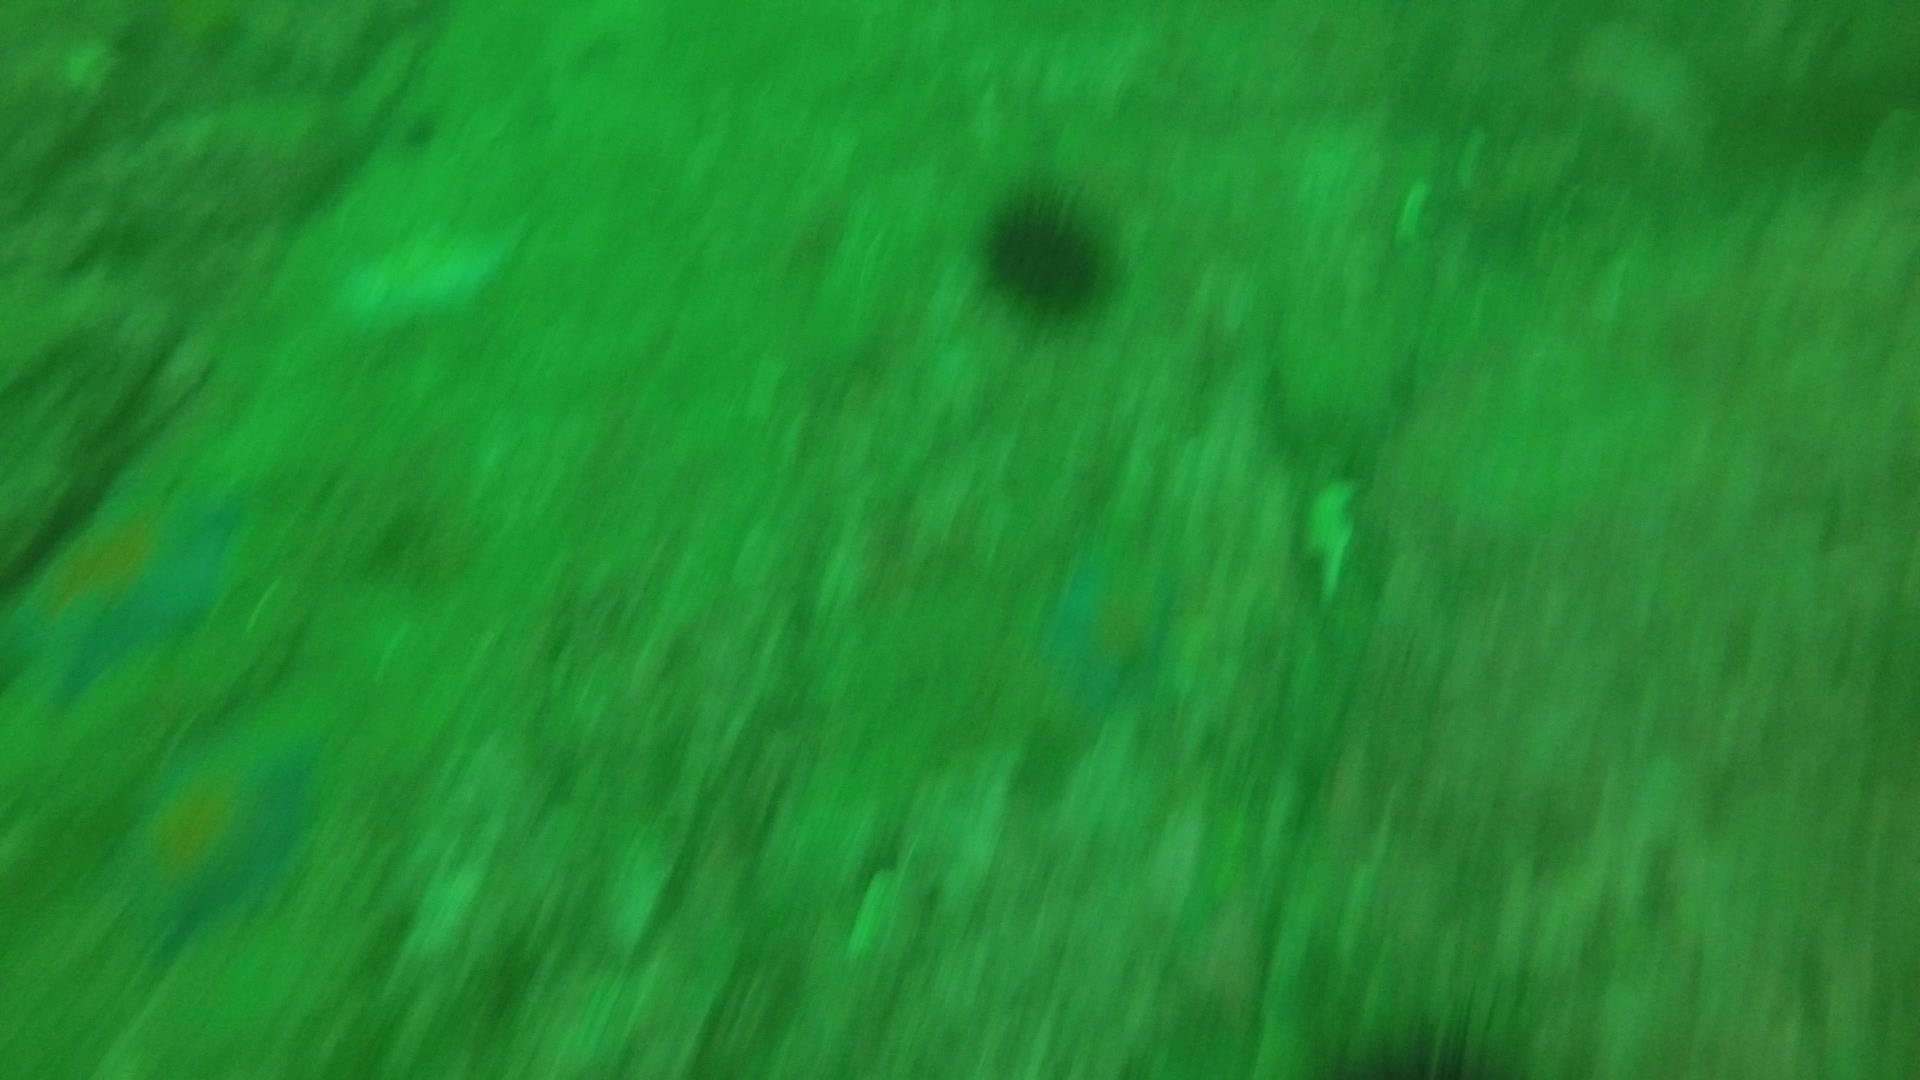echinus: (972, 181, 1118, 320)
starfish: (3, 469, 255, 709), (111, 717, 330, 959), (1029, 538, 1189, 720), (326, 210, 524, 342)
